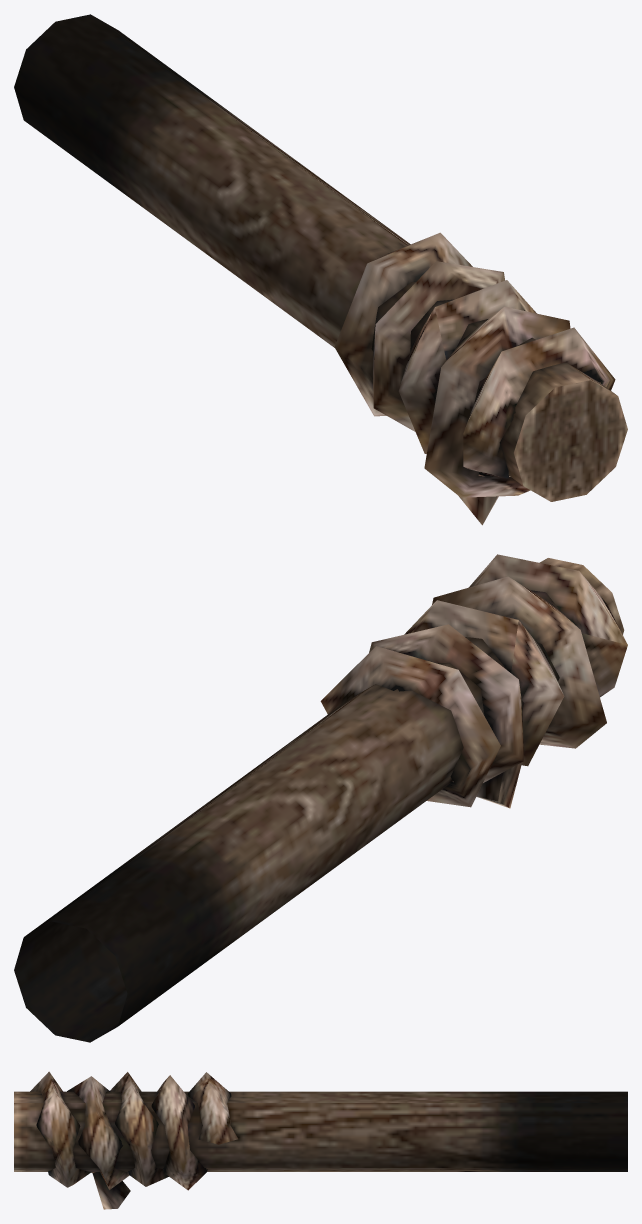
The model's file is lever_machine_lever.dae.
3 renders of one model, top to bottom at view 1: azimuth 30°, elevation 25°; view 2: azimuth 150°, elevation 25°; view 3: azimuth 270°, elevation 25°, orthographic. The views are drawn at different scales.
Parts seen in each view (by area): view 1: polySurface201; view 2: polySurface201; view 3: polySurface201.
Boxes of the visible parts, x1,y1,x2,y2 form: polySurface201: (14,14,627,525); polySurface201: (14,554,627,1042); polySurface201: (14,1071,627,1209).
Size of the model in its own units: 0.1254 by 0.1518 by 0.6156.
